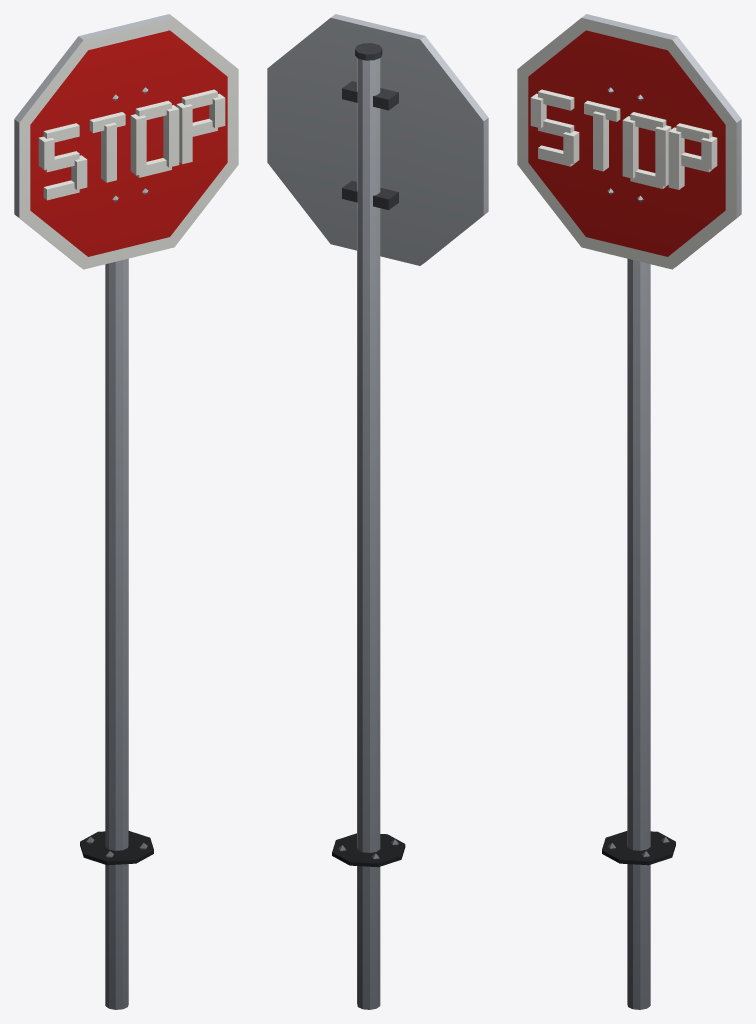
File: Sign_Stop.fbx
3 views of the same model, side by side, from view 1: azimuth 30°, elevation 25°; view 2: azimuth 150°, elevation 25°; view 3: azimuth 330°, elevation 25° (orthographic).
Parts seen in each view (by area): view 1: Sign_Stop_LOD0; view 2: Sign_Stop_LOD0; view 3: Sign_Stop_LOD0.
Part boxes in pixels (bbox=[...]): Sign_Stop_LOD0: bbox=[14, 14, 238, 1009]; Sign_Stop_LOD0: bbox=[267, 14, 488, 1009]; Sign_Stop_LOD0: bbox=[517, 14, 741, 1009].
Size of what is drawn, in the model's own units: 0.7391 by 3.17 by 0.224.
Materials: 1 (1 with a texture image).
